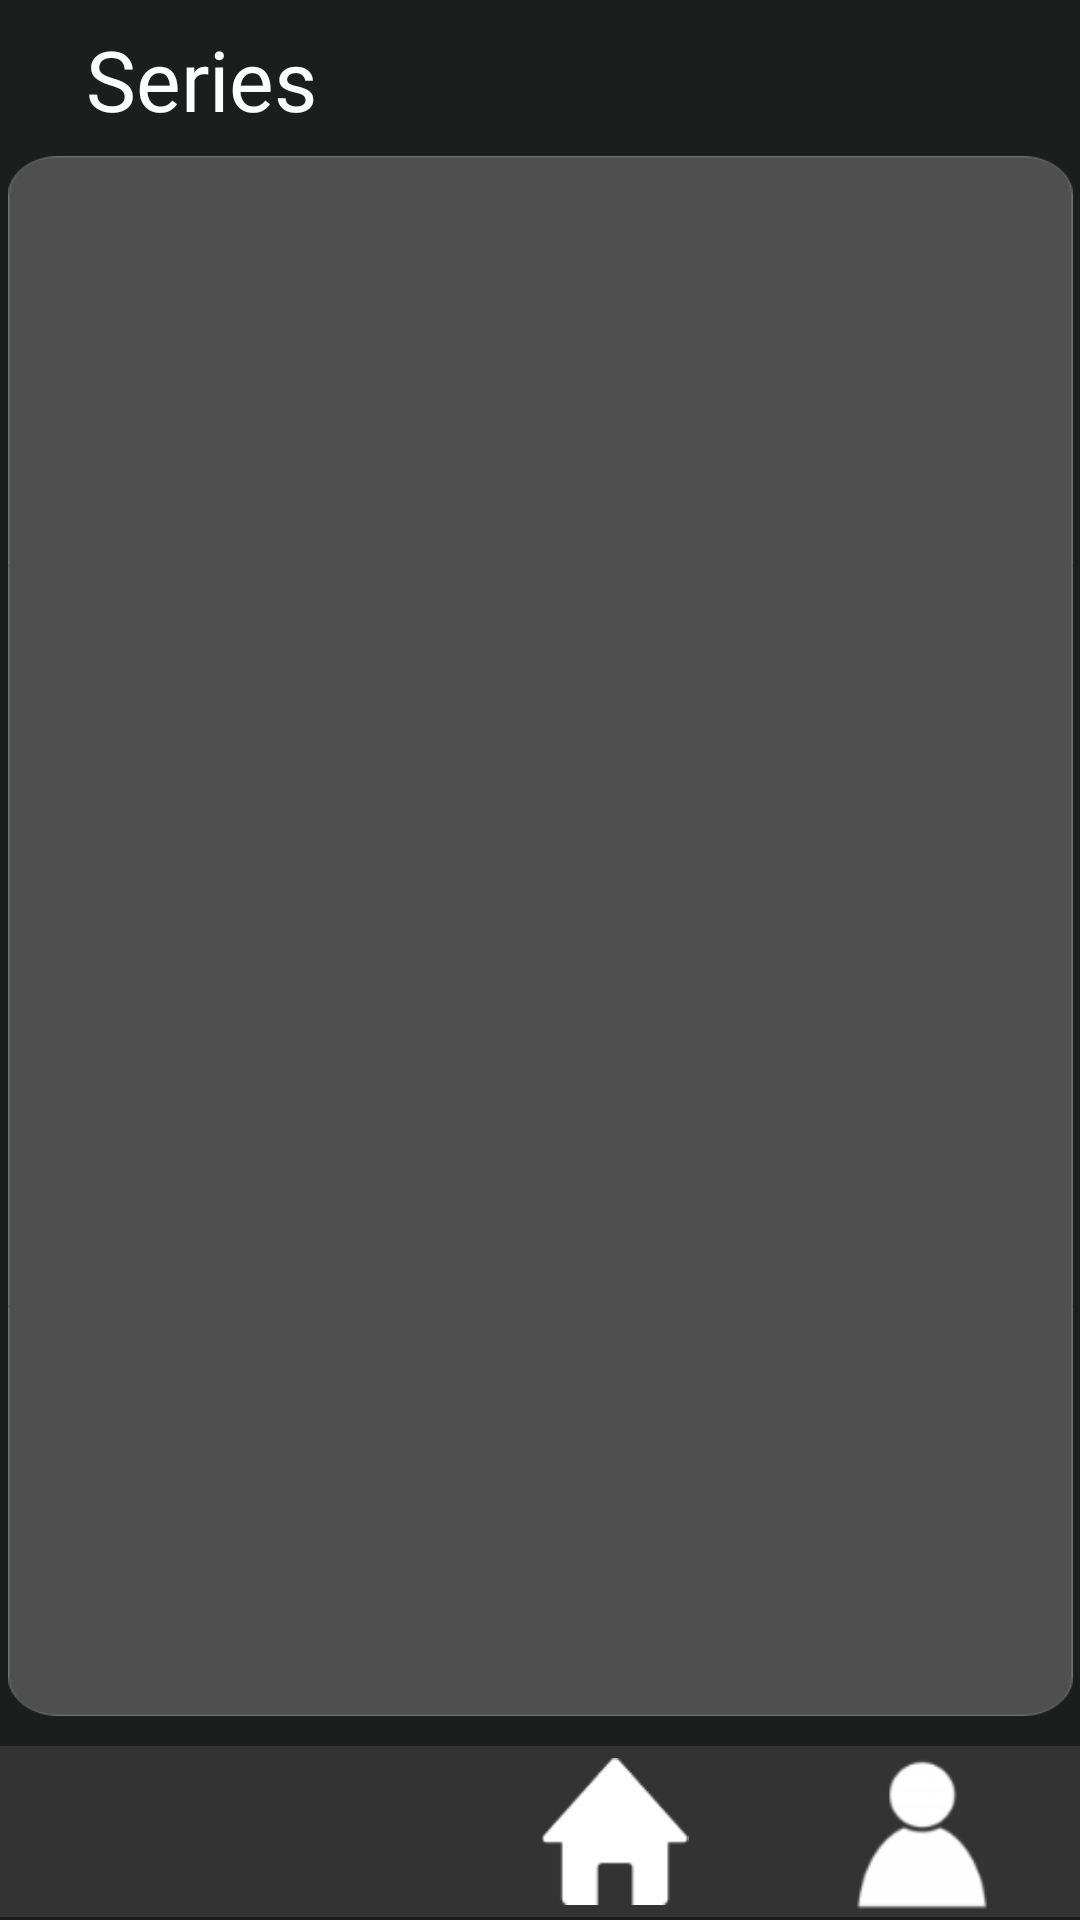

Where icons sit on this 1080 × 1920 app screen, as rect(x1, y1, x2, y2):
casa: rect(542, 1758, 689, 1905)
usuario: rect(857, 1761, 987, 1909)
